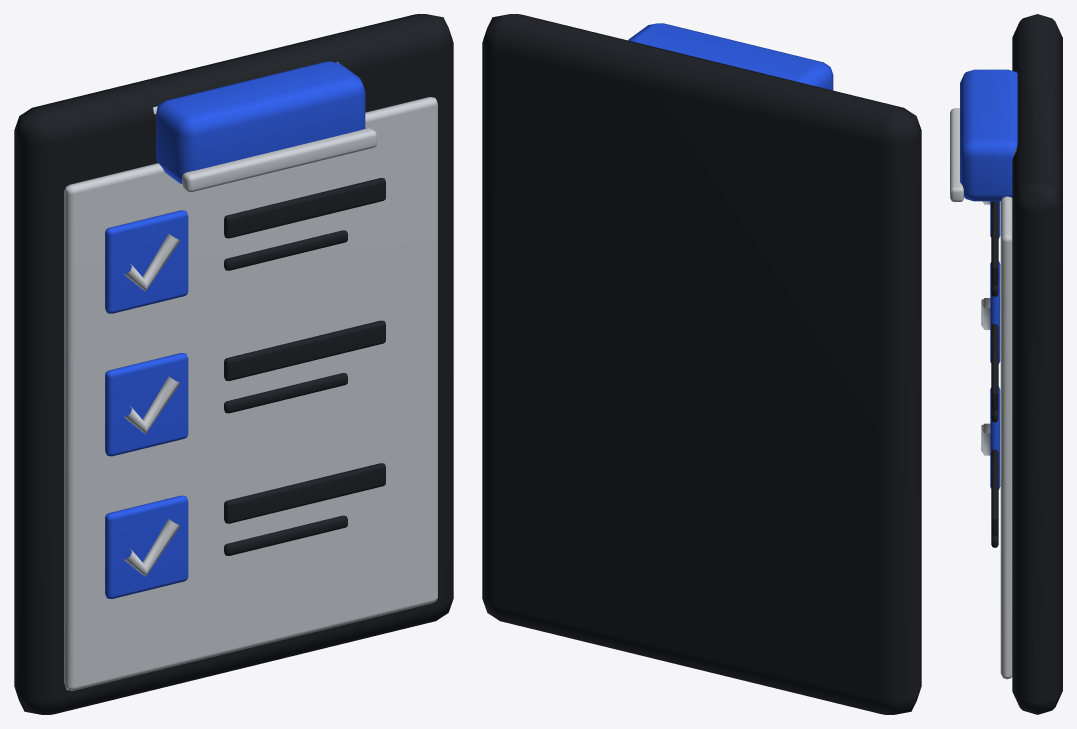
File: program.glb
The picture shows the model from 3 angles, left to right: view 1: azimuth 30°, elevation 25°; view 2: azimuth 150°, elevation 25°; view 3: azimuth 270°, elevation 25°; orthographic projection. The views are drawn at different scales.
Visible parts, largest first — view 1: SM_ModelGeometry_LiftSilver, SM_ModelGeometry_LiftGraphite, SM_ModelGeometry_LiftCobalt, SM_SpringClip, SM_ProgramClipPivot_LiftSilver; view 2: SM_ModelGeometry_LiftGraphite, SM_SpringClip; view 3: SM_ModelGeometry_LiftGraphite, SM_SpringClip, SM_ModelGeometry_LiftSilver, SM_ModelGeometry_LiftCobalt, SM_ProgramClipPivot_LiftSilver.
Part boxes in pixels (bbox=[...]): SM_ModelGeometry_LiftSilver: bbox=[64, 97, 437, 690]; SM_ModelGeometry_LiftGraphite: bbox=[14, 14, 453, 714]; SM_ModelGeometry_LiftCobalt: bbox=[105, 210, 188, 598]; SM_SpringClip: bbox=[156, 61, 365, 183]; SM_ProgramClipPivot_LiftSilver: bbox=[153, 62, 376, 192]; SM_ModelGeometry_LiftGraphite: bbox=[482, 14, 921, 714]; SM_SpringClip: bbox=[628, 23, 833, 90]; SM_ModelGeometry_LiftGraphite: bbox=[991, 14, 1062, 714]; SM_SpringClip: bbox=[960, 69, 1017, 201]; SM_ModelGeometry_LiftSilver: bbox=[981, 196, 1012, 679]; SM_ModelGeometry_LiftCobalt: bbox=[990, 201, 1000, 489]; SM_ProgramClipPivot_LiftSilver: bbox=[950, 71, 1016, 201].
Size of the model in its own units: 1.49 by 2 by 0.3823.
